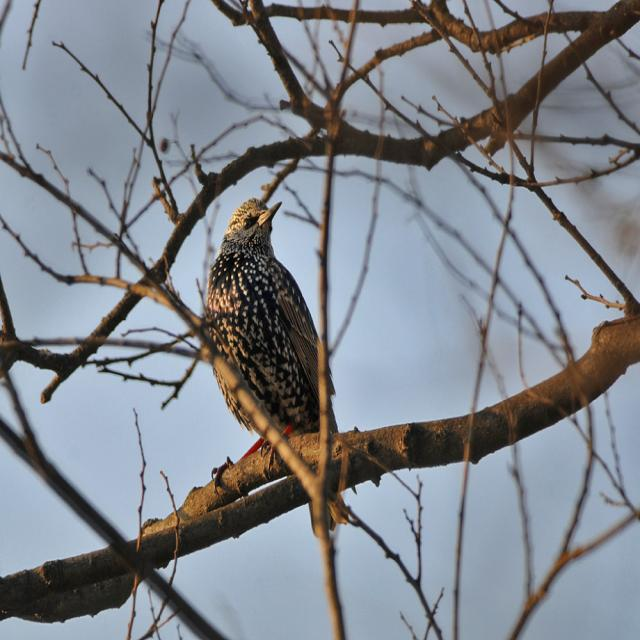bird: (204, 180, 348, 496)
